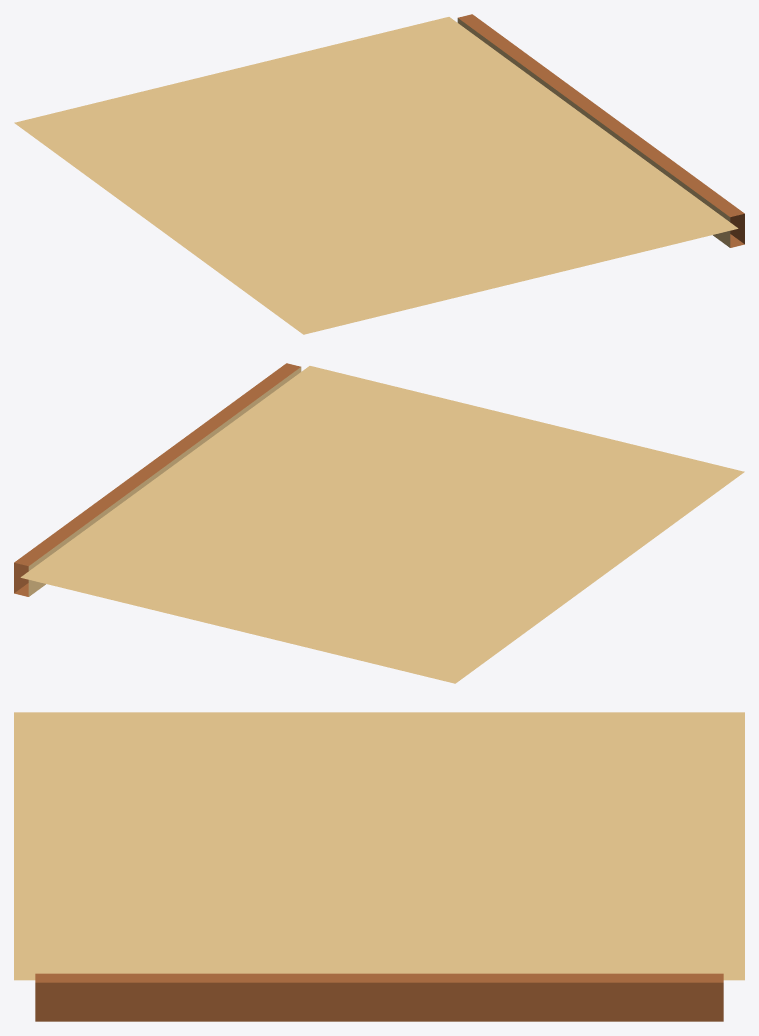
File: kitchen_dishwasher_bot.dae
3 views of the same model, one above another, from view 1: azimuth 30°, elevation 25°; view 2: azimuth 150°, elevation 25°; view 3: azimuth 270°, elevation 25° (orthographic). The views are drawn at different scales.
Parts seen in each view (by area): view 1: BT_1, FR_12 (×2); view 2: BT_1, FR_12 (×2); view 3: BT_1, FR_12.
Part boxes in pixels (<box>): BT_1: <box>14,17,738,334</box>; FR_12 (×2): <box>457,14,744,247</box>; BT_1: <box>20,366,744,683</box>; FR_12 (×2): <box>14,363,301,596</box>; BT_1: <box>14,712,744,980</box>; FR_12: <box>35,973,723,1021</box>.
Size of the model in its own units: 22.88 by 25.5 by 1.5.
